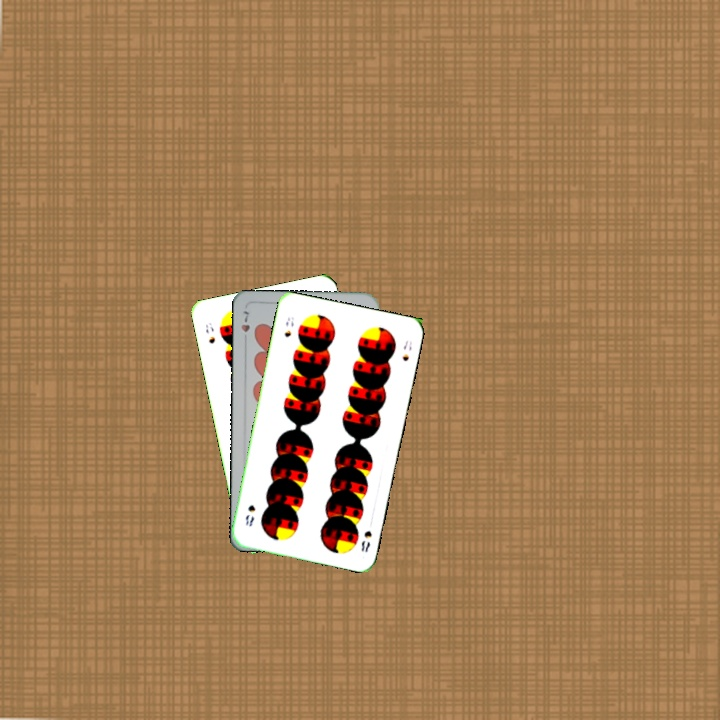H7: (237, 307, 252, 346)
S8: (201, 318, 218, 346), (357, 526, 374, 554), (280, 313, 296, 339)
